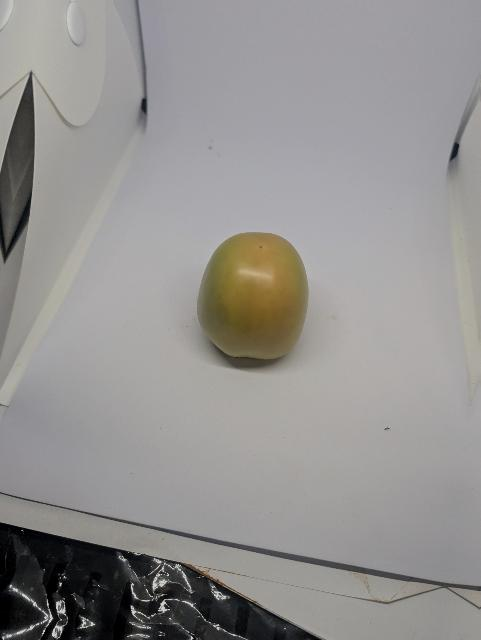breaker: (195, 230, 314, 363)
